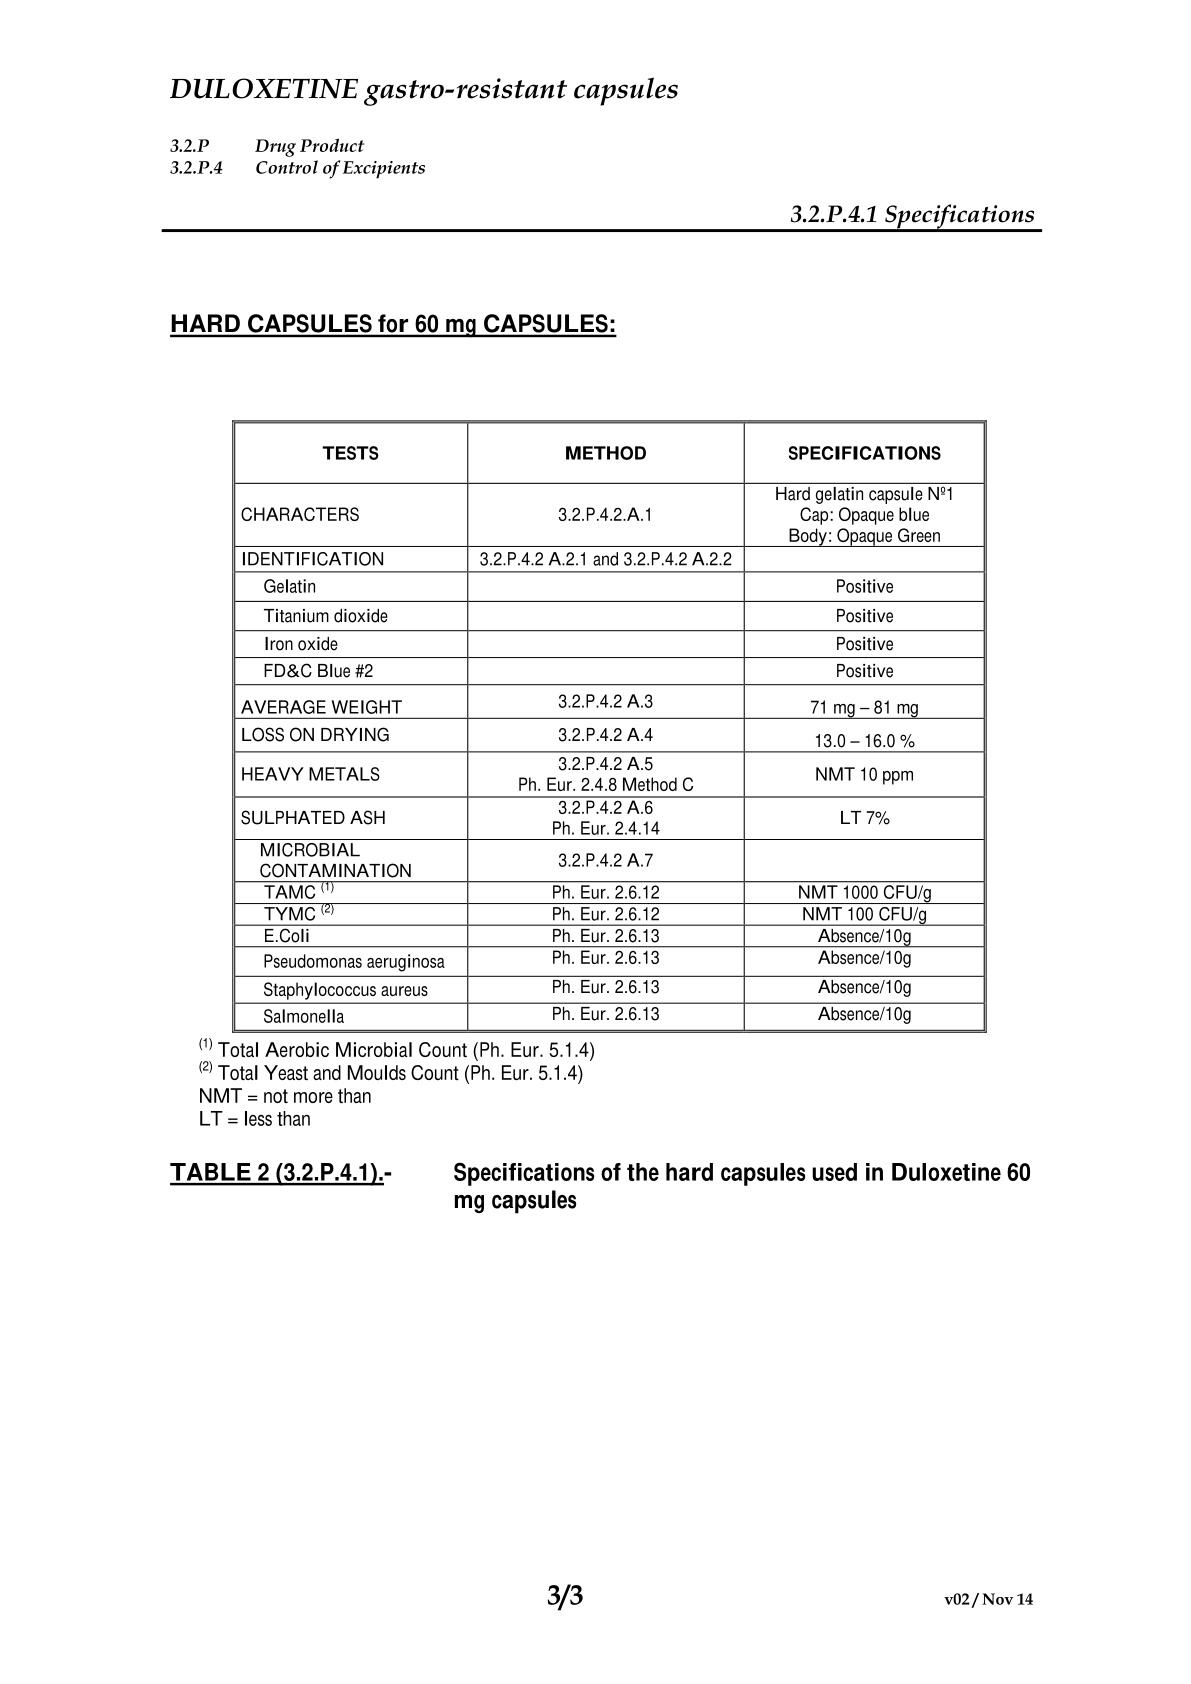full_lined: (231, 419, 989, 1035)
